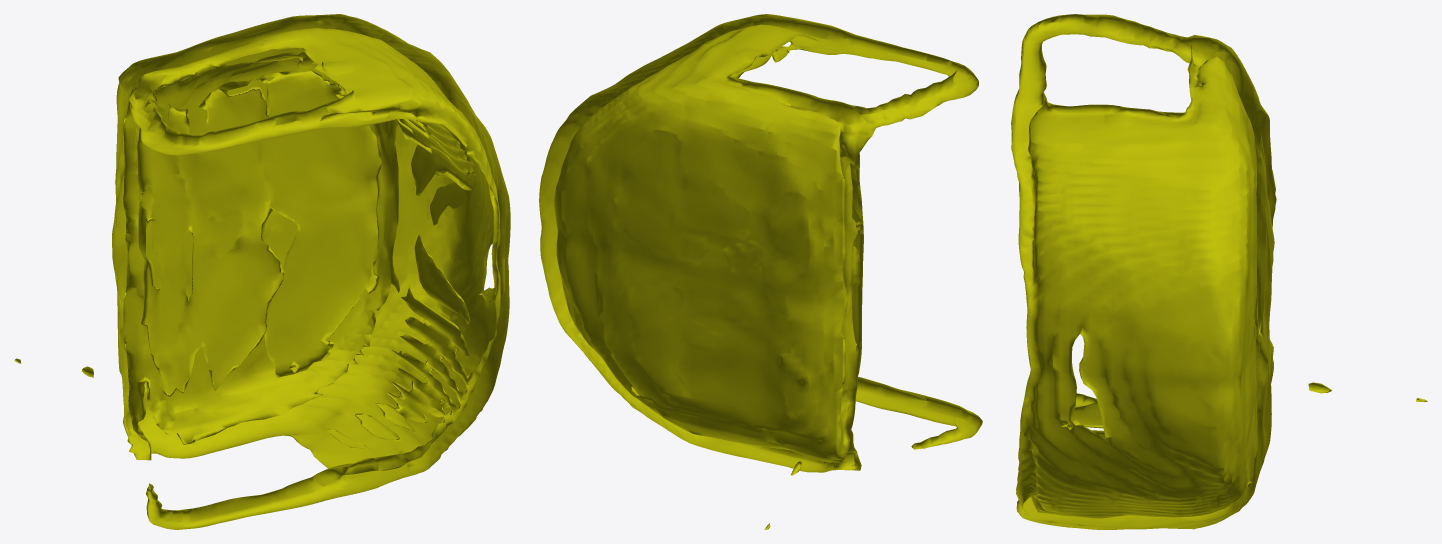
3 views of the same model, side by side, from view 1: azimuth 30°, elevation 25°; view 2: azimuth 150°, elevation 25°; view 3: azimuth 270°, elevation 25° (orthographic). The views are drawn at different scales.
Parts seen in each view (by area): view 1: world; view 2: world; view 3: world.
Part boxes in pixels (x1,y1,x2,y2): world: (14, 14, 510, 529); world: (539, 14, 982, 529); world: (1011, 14, 1427, 529).
Bounding box in the file's own units: 61.54 × 60.43 × 56.15.
